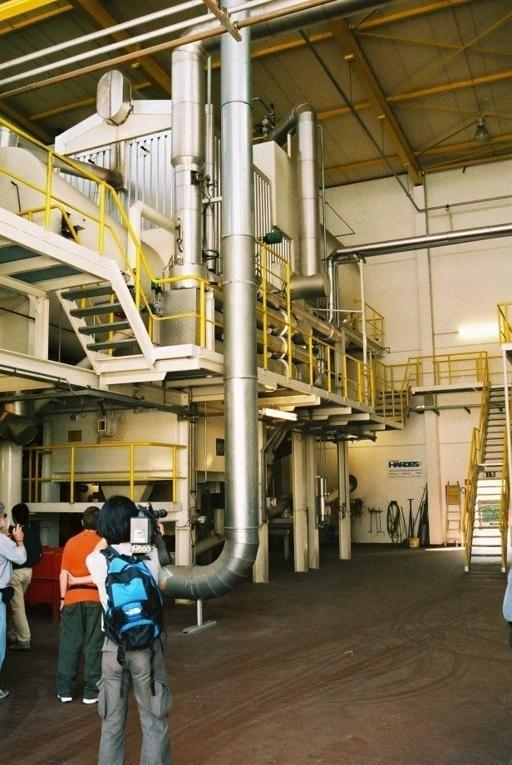pessoa: (92, 491, 178, 765)
